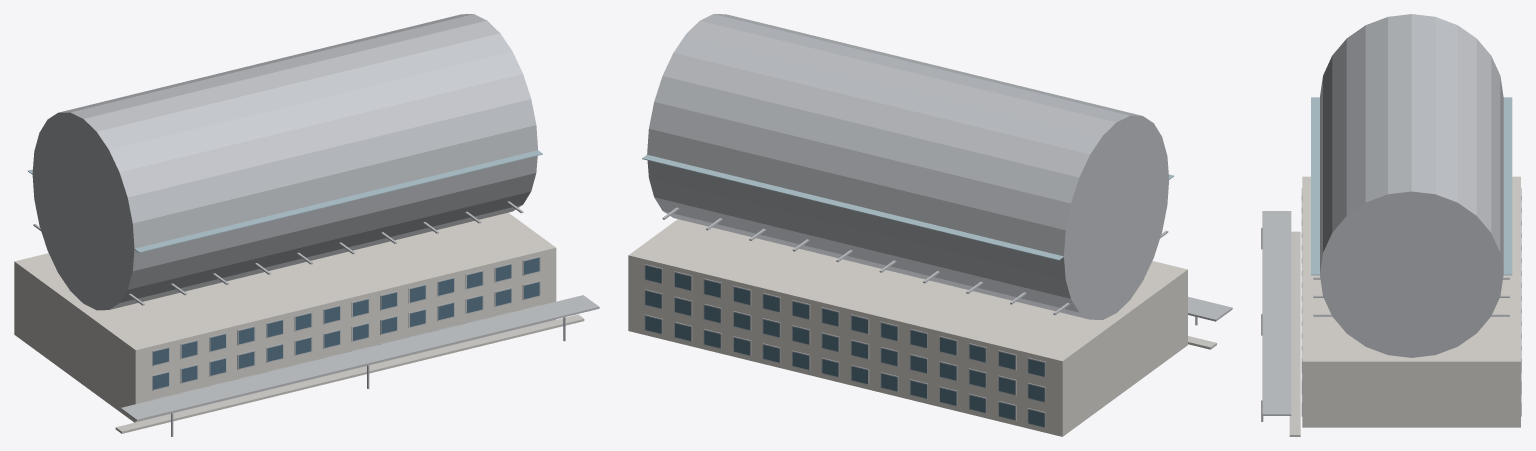
Rendered from train_station.glb.
3 renders of one model, left to right at view 1: azimuth 30°, elevation 25°; view 2: azimuth 150°, elevation 25°; view 3: azimuth 270°, elevation 25°, orthographic. The views are drawn at different scales.
Visible parts, largest first — view 1: Cylinder, Cube, Cube.180, Cube.002, Cube.181, Cube.001, Cube.169, Cube.170; view 2: Cylinder, Cube, Cube.002, Cube.001, Cube.169, Cube.180, Cube.170; view 3: Cylinder, Cube, Cube.180, Cube.169, Cube.181, Cube.001.
Boxes of the visible parts, left/top/right/bottom form: Cylinder: left=32, top=14, right=537, bottom=310; Cube: left=14, top=212, right=556, bottom=422; Cube.180: left=121, top=295, right=599, bottom=421; Cube.002: left=153, top=257, right=539, bottom=389; Cube.181: left=115, top=314, right=584, bottom=433; Cube.001: left=152, top=256, right=540, bottom=400; Cube.169: left=28, top=150, right=542, bottom=252; Cube.170: left=33, top=201, right=523, bottom=305; Cylinder: left=647, top=14, right=1168, bottom=319; Cube: left=628, top=219, right=1187, bottom=436; Cube.002: left=645, top=265, right=1044, bottom=427; Cube.001: left=644, top=264, right=1045, bottom=428; Cube.169: left=642, top=154, right=1173, bottom=260; Cube.180: left=1188, top=297, right=1232, bottom=321; Cube.170: left=662, top=207, right=1168, bottom=315; Cylinder: left=1320, top=14, right=1503, bottom=357; Cube: left=1302, top=176, right=1520, bottom=427; Cube.180: left=1262, top=211, right=1291, bottom=415; Cube.169: left=1311, top=97, right=1512, bottom=275; Cube.181: left=1289, top=231, right=1300, bottom=436; Cube.001: left=1301, top=188, right=1521, bottom=416.
Bounding box in the file's own units: 66 × 35.2 × 35.75.
